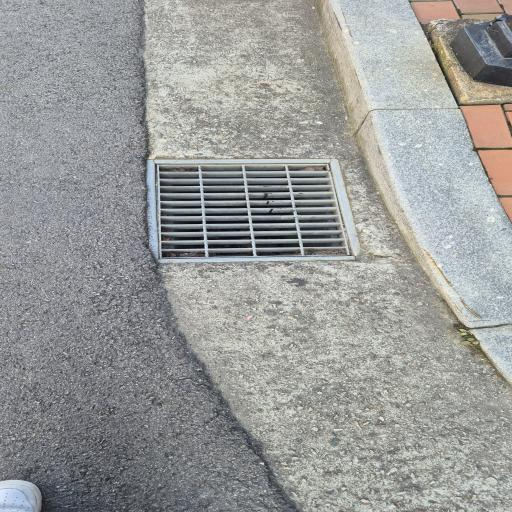drain: (146, 159, 362, 263)
